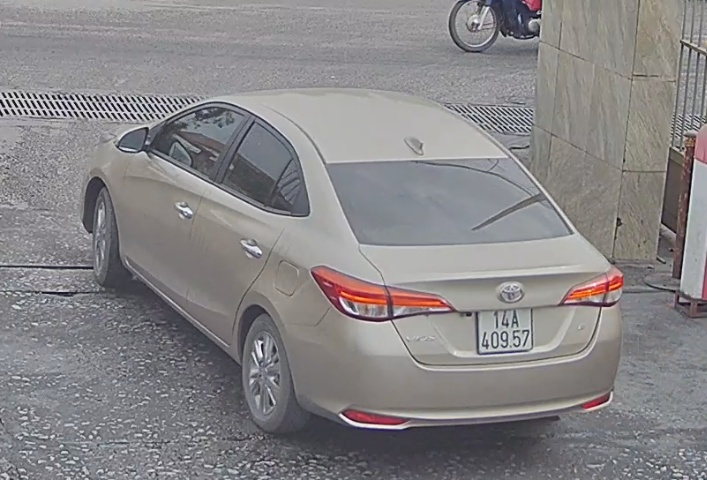vehicle plate: (474, 307, 537, 353)
